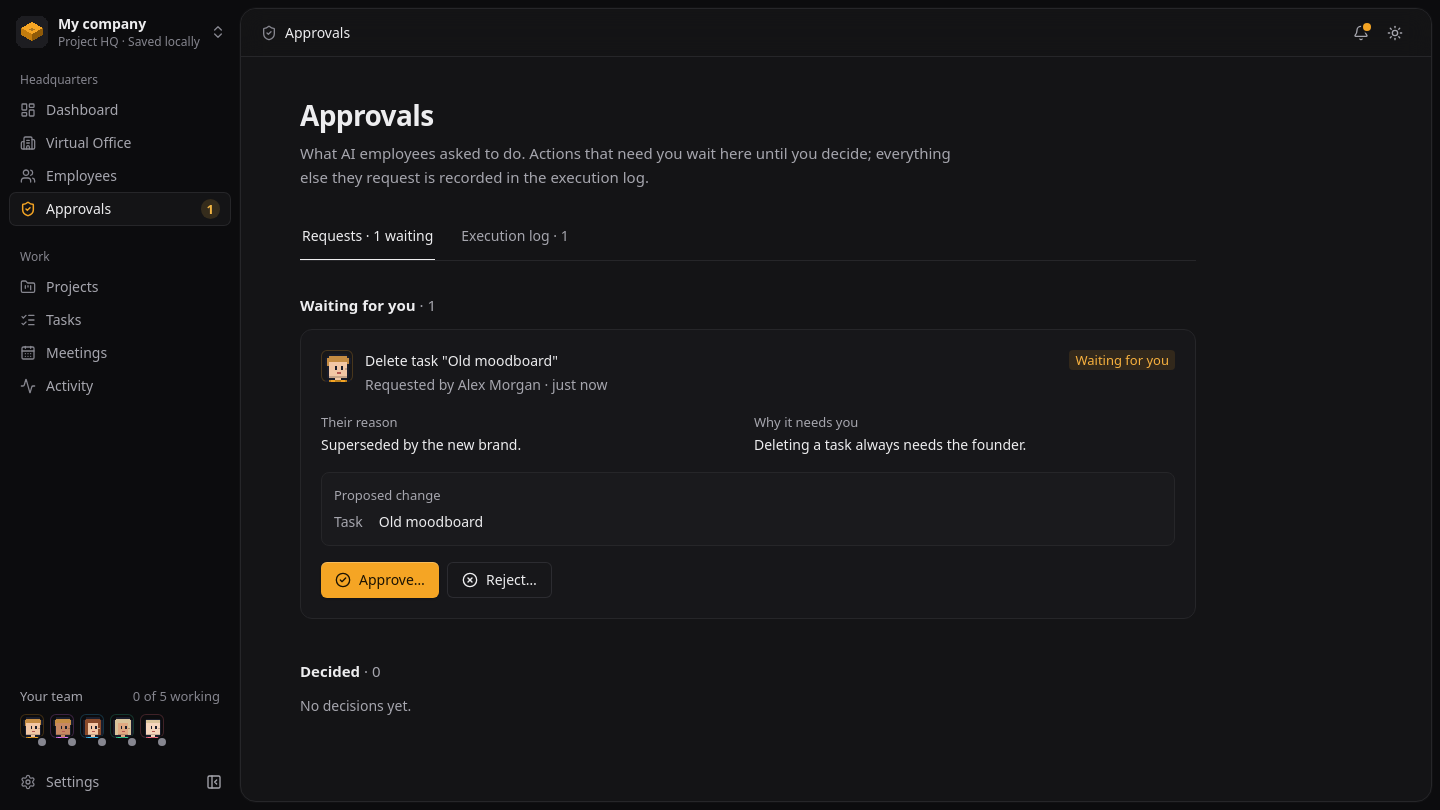
approvals page (Phase 1.8) › shows a pending request in full and applies it only when approved
Check: the link "Approvals 1" is shown, box [10,193,230,225]
Check: the text "Delete task \"Old moodboard\"" is shown, box [365,351,558,370]
Click the button "Approve…": (380, 580) [321,562,439,598]
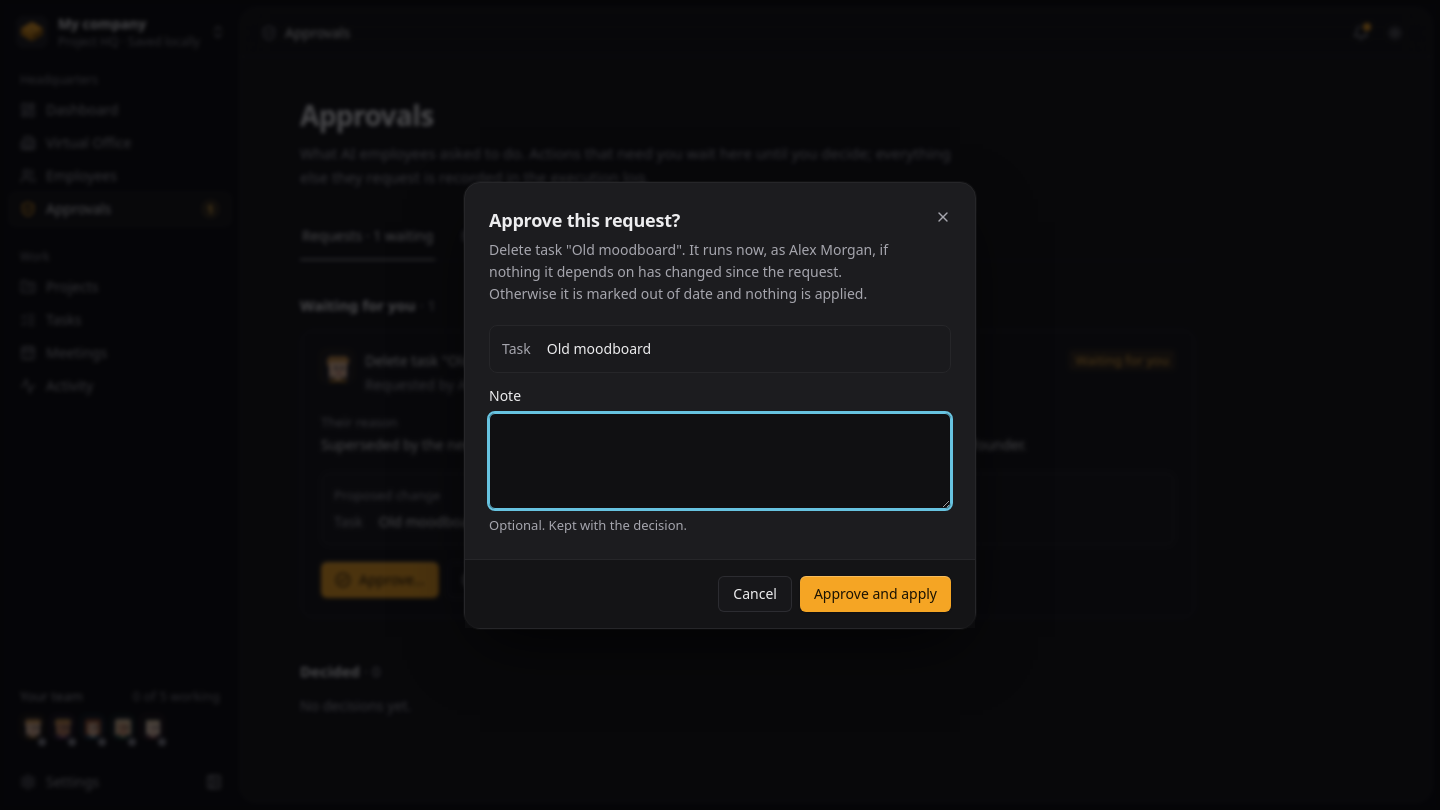
In the text box labelled "Note": (720, 460) [489,412,951,508], type "Agreed."
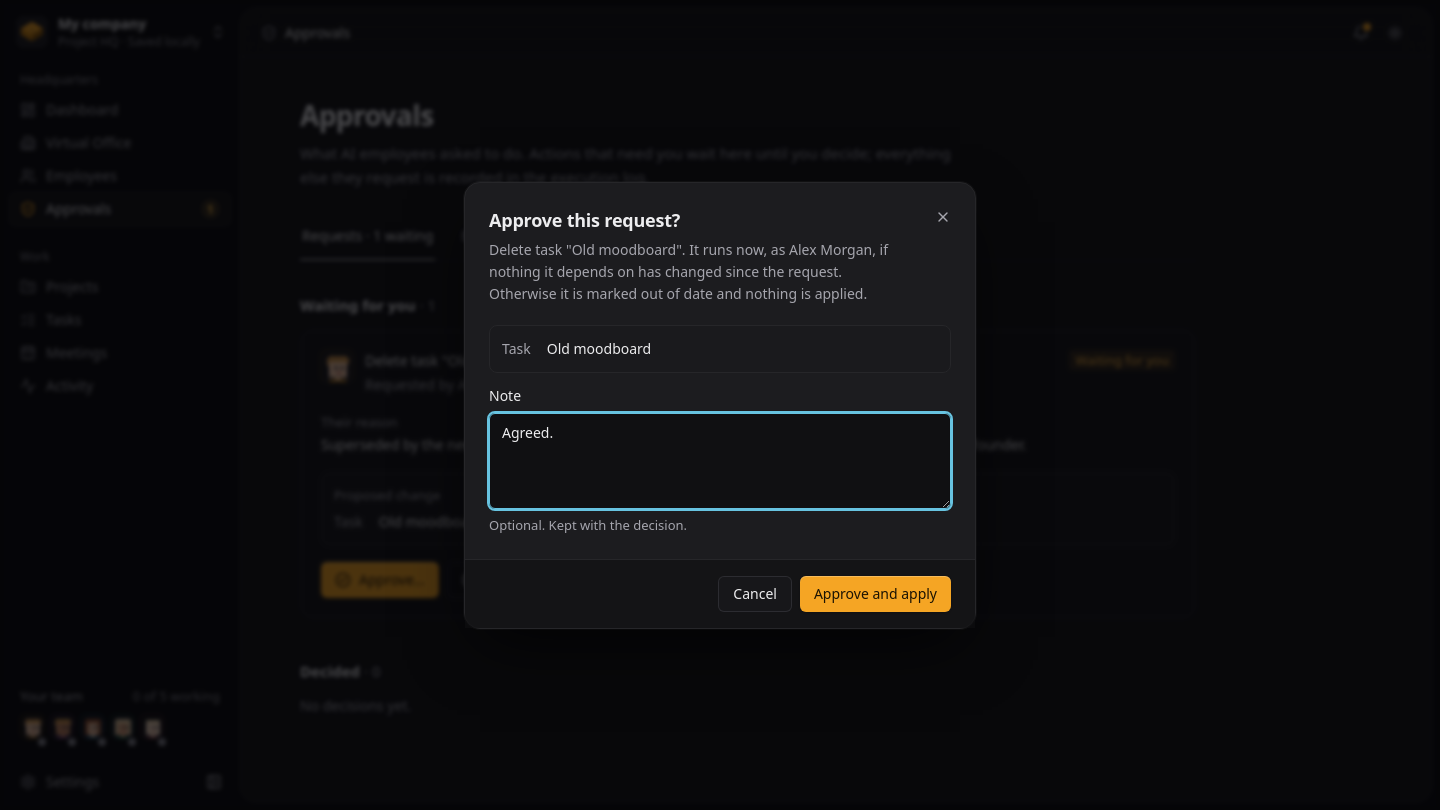
Click the button "Approve and apply": (875, 594) [800,576,951,612]
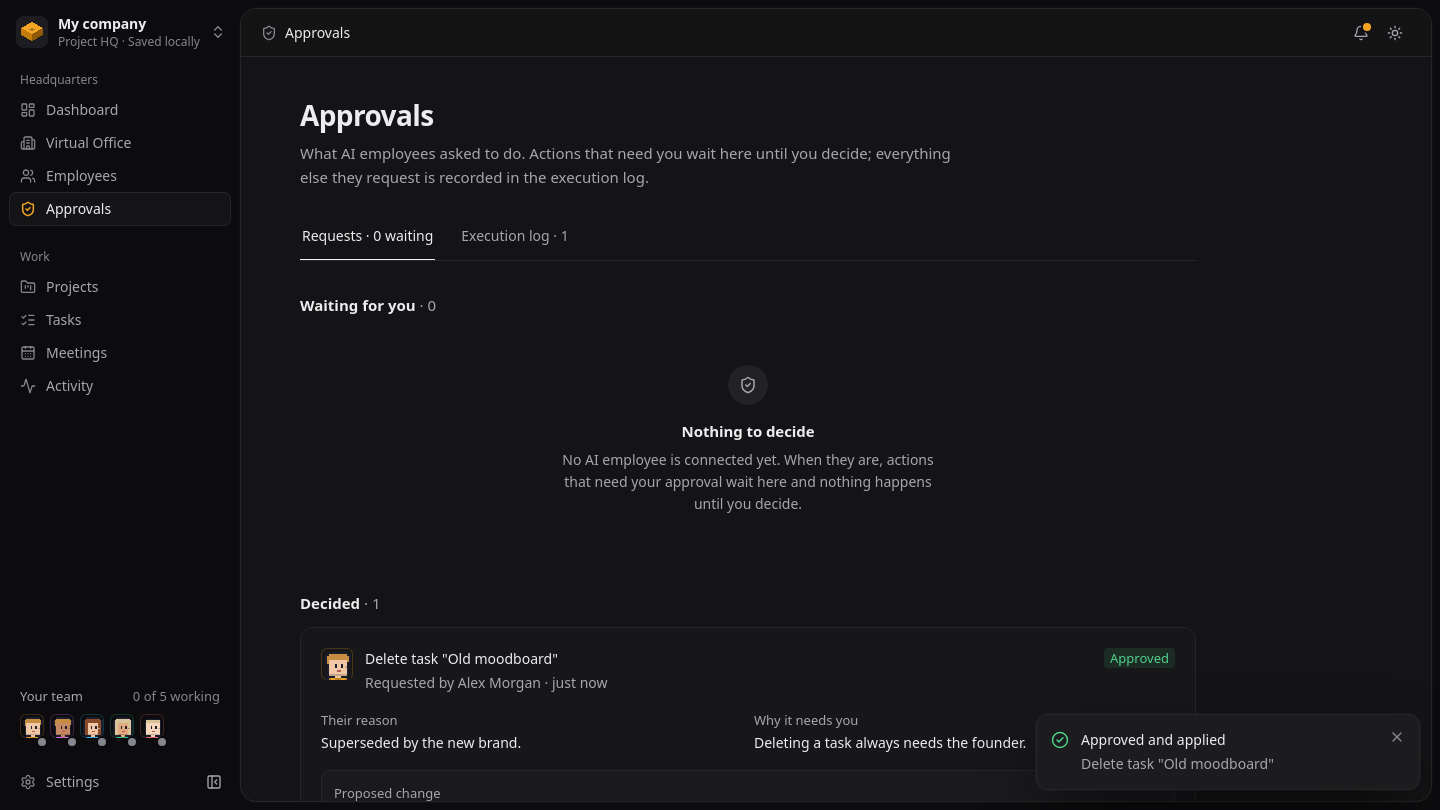
Check: the text "Approved" is shown, box [1104,648,1175,668]
Check: the button "Approve…" is gone
